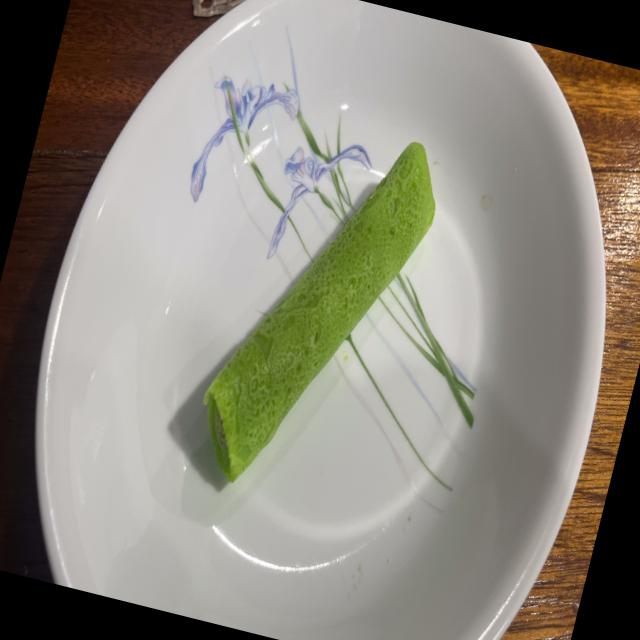Kuih-Ketayap: (203, 142, 435, 481)
